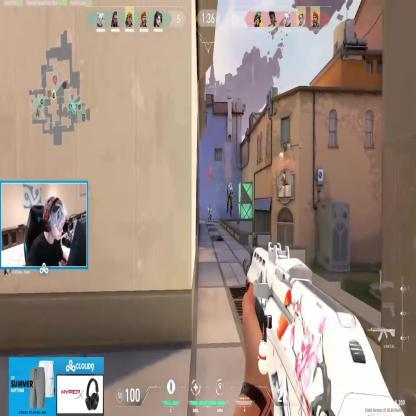enemy: (226, 182, 234, 216), (207, 205, 212, 221)
enemy_head: (230, 182, 232, 188), (209, 205, 210, 209)
